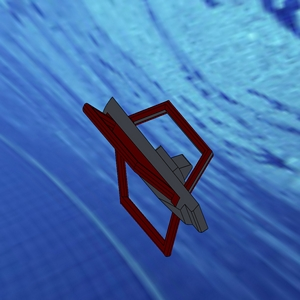submarine: (56, 45, 233, 282)
